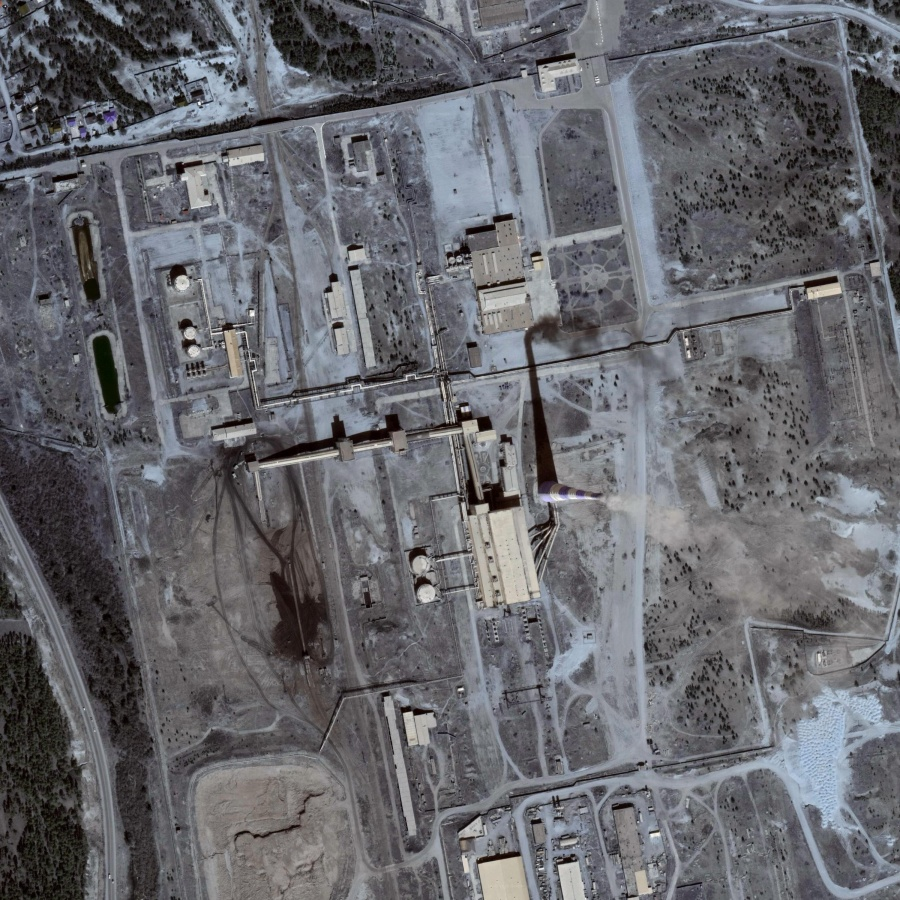PowerPlant: (149, 251, 627, 679)
